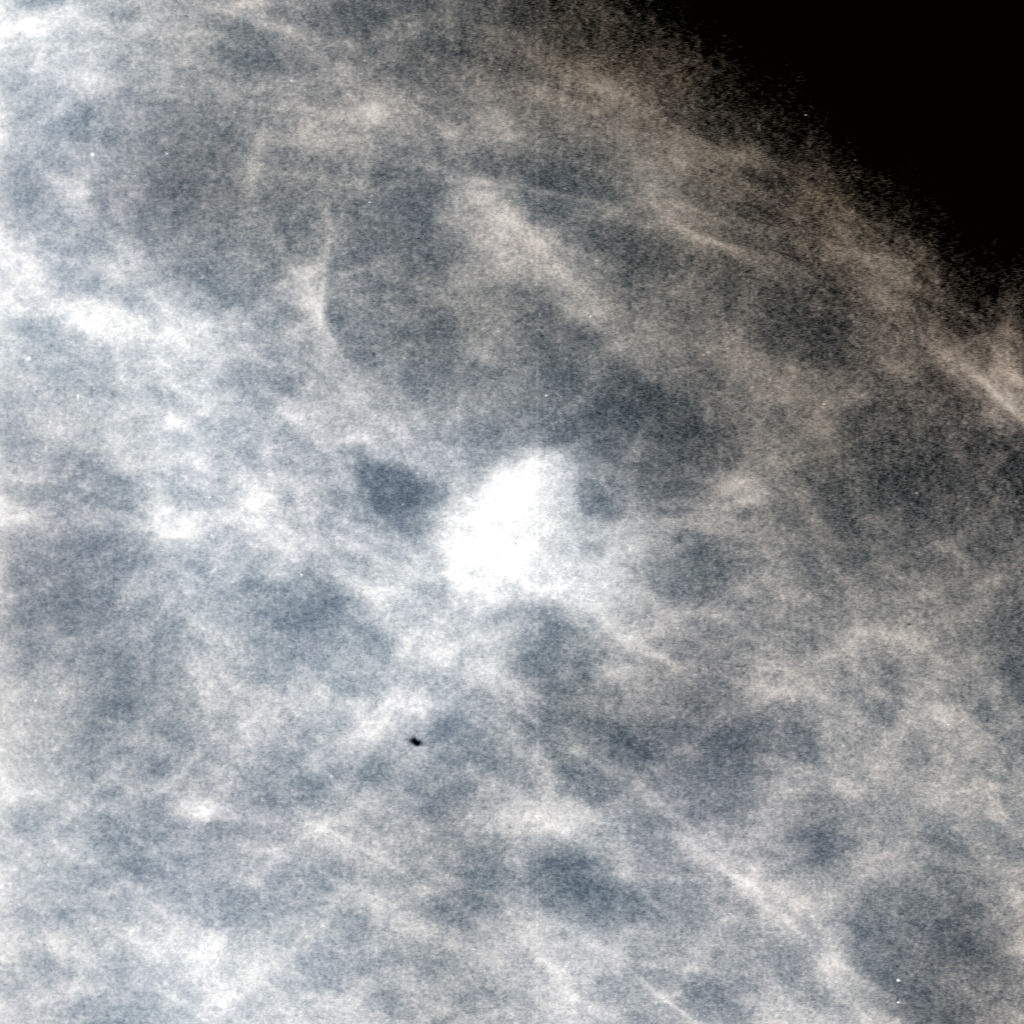tumor: (426, 431, 598, 593)
